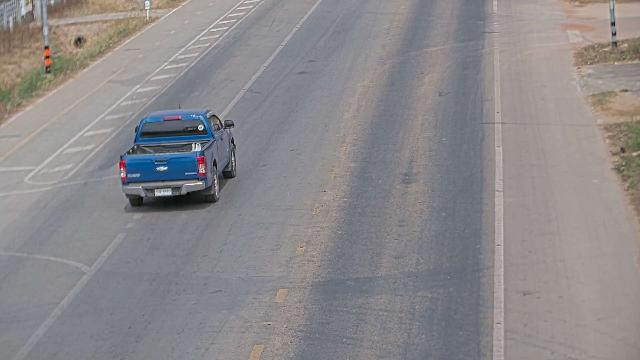pickup-truck: (118, 105, 237, 207)
